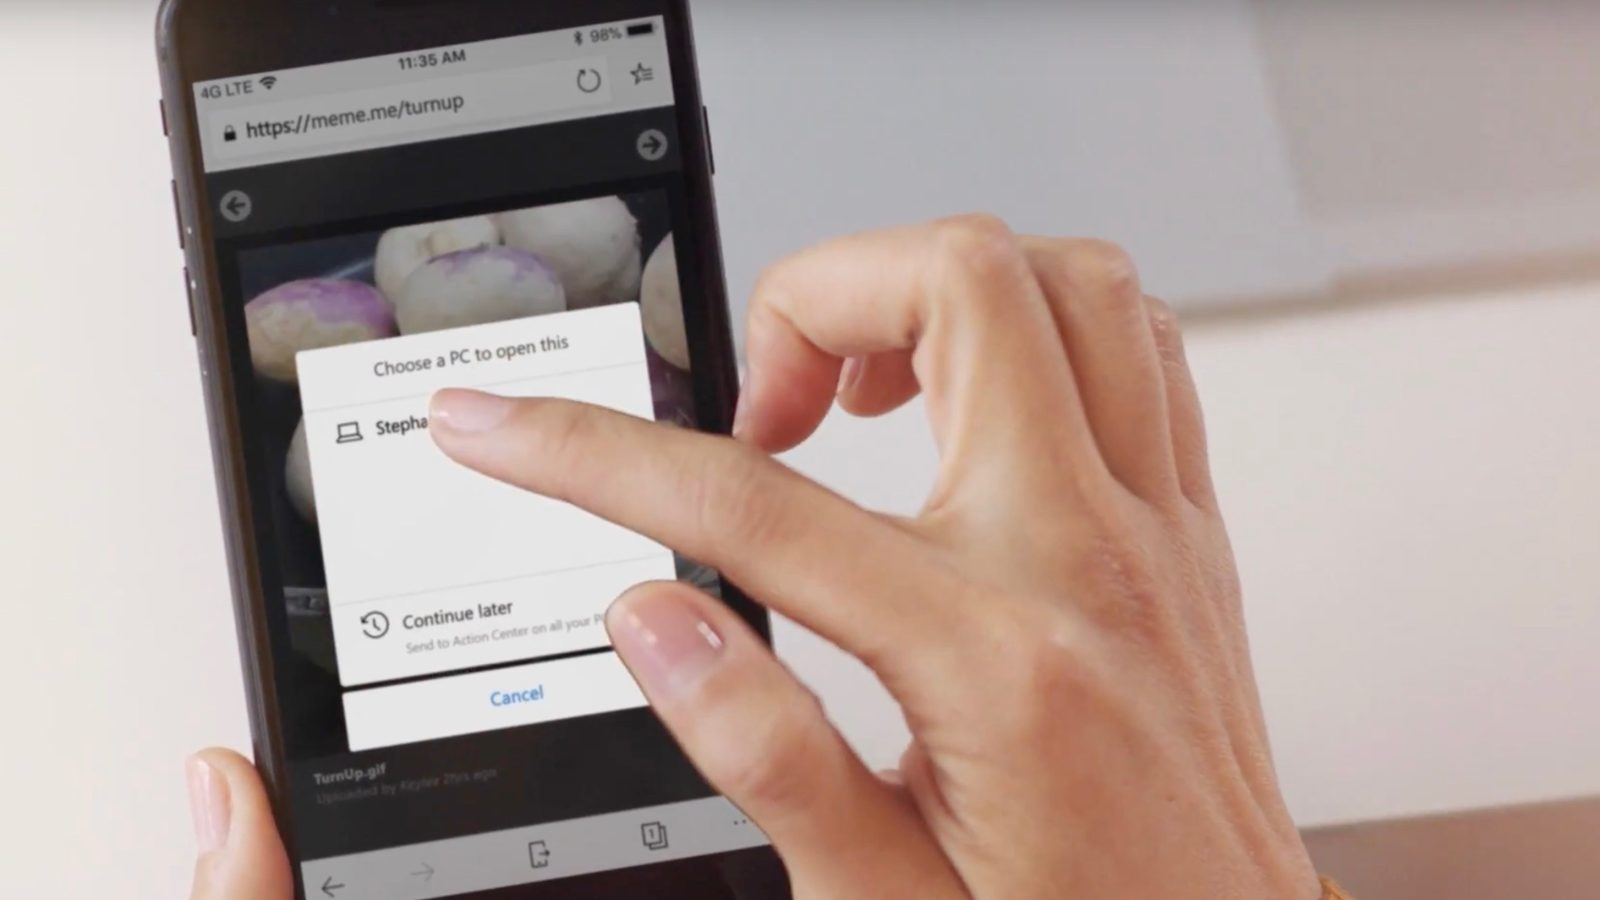Cell Phone: (153, 3, 811, 897)
